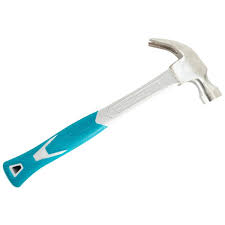martillu: (1, 37, 222, 192)
